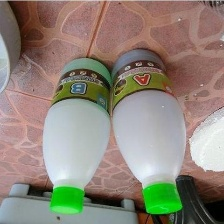insecticide: (110, 44, 189, 215), (40, 55, 113, 215)
